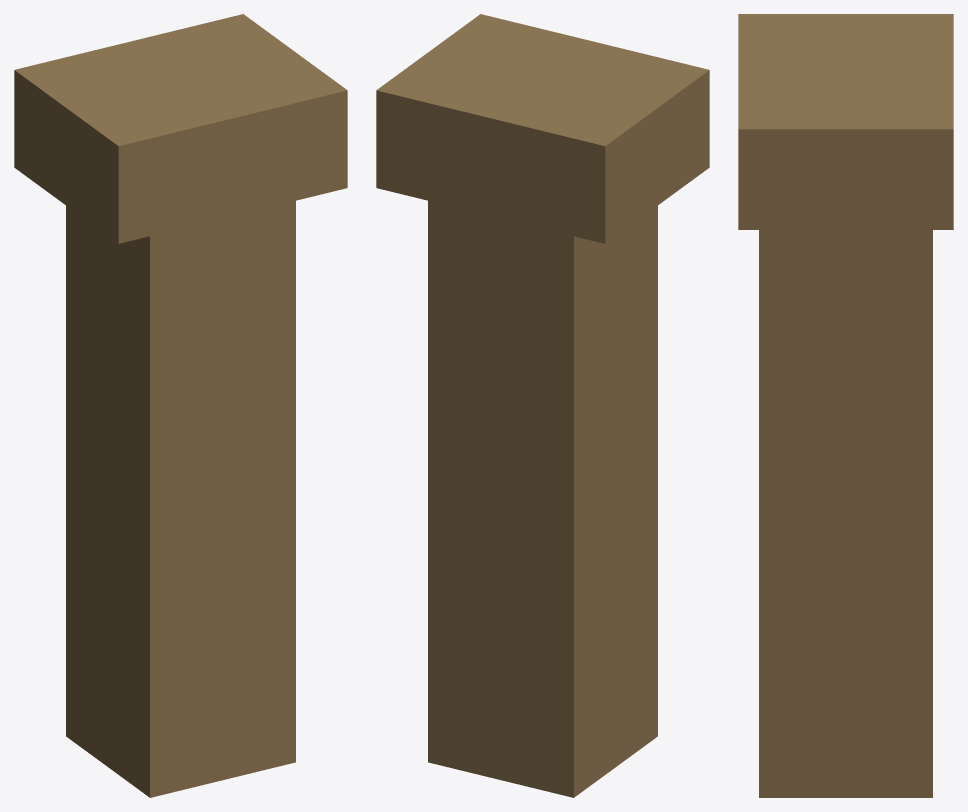
The model's file is pillar.glb.
3 views of the same model, side by side, from view 1: azimuth 30°, elevation 25°; view 2: azimuth 150°, elevation 25°; view 3: azimuth 270°, elevation 25° (orthographic). The views are drawn at different scales.
Visible parts, largest first — view 1: Box (×2); view 2: Box (×2); view 3: Box (×2).
Boxes of the visible parts, x1=… form: Box (×2): x1=14, y1=14, x2=347, y2=797; Box (×2): x1=376, y1=14, x2=709, y2=797; Box (×2): x1=738, y1=14, x2=953, y2=797.
Bounding box in the file's own units: 0.7848 × 2.19 × 0.6192.
